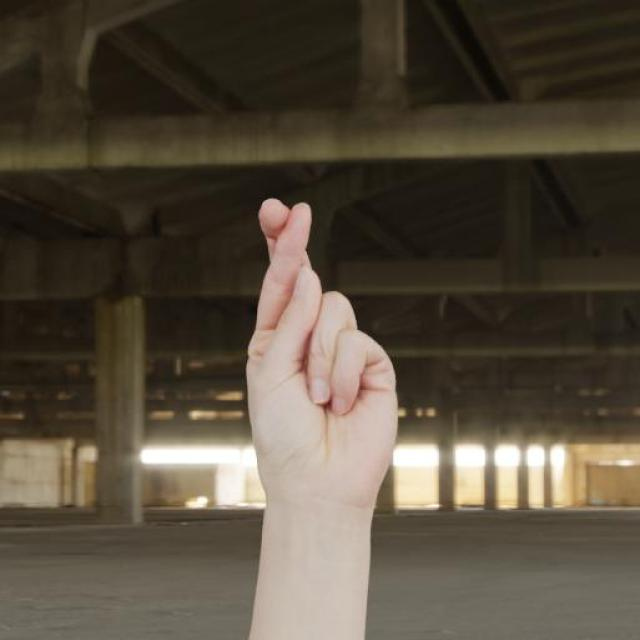R: (242, 198, 399, 513)
